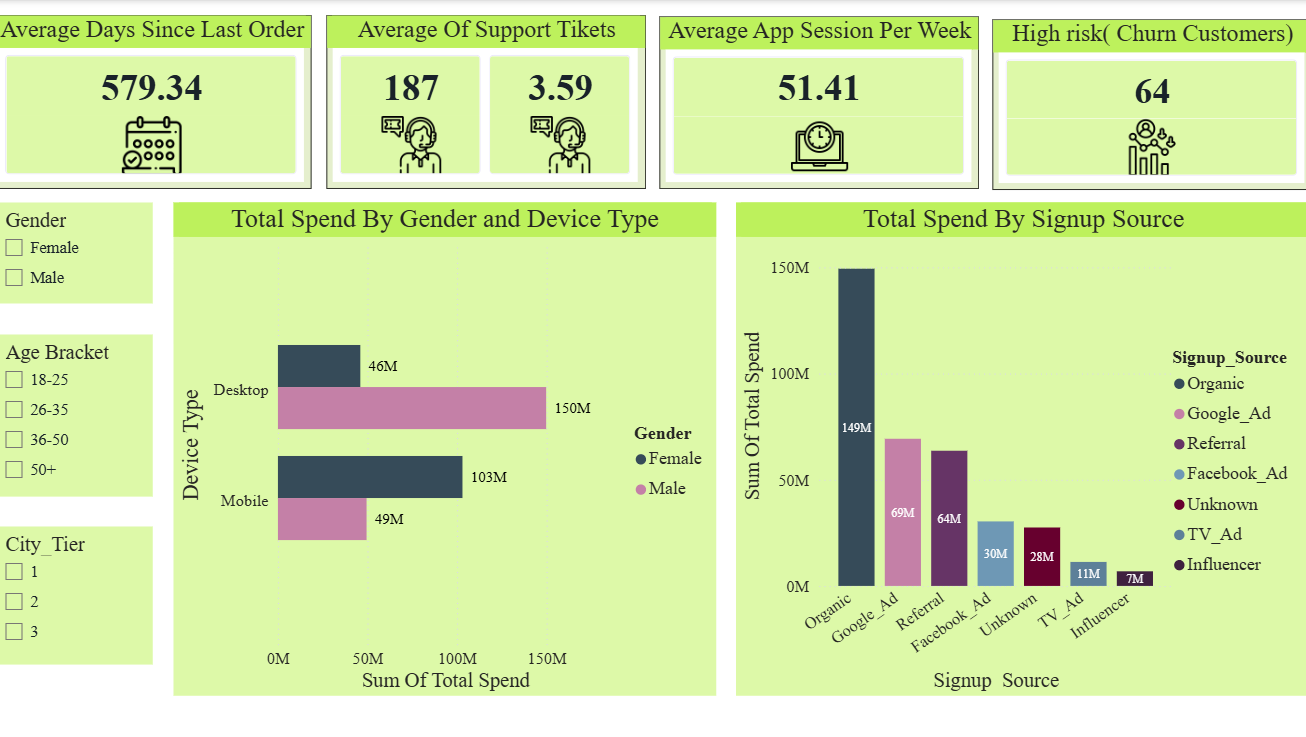

The dashboard page shown, as its layout file describes it:
{"tool":"powerbi","page":{"name":"Page 3","canvas":[1280,720],"ordinal":2},"visuals":[{"type":"cardVisual","title":"Average Days Since Last Order","fields":{"Data":["Avg(shopsmart_customers cleaned.Days_Since_Last_Order)"]},"box":[0,14.9,309.8,169],"z":0},{"type":"cardVisual","title":"Average Of Support Tikets","fields":{"Data":["Max(shopsmart_customers cleaned.Support_Tickets)","Avg(shopsmart_customers cleaned.Support_Tickets)1"]},"box":[324.7,14.9,309.8,169],"z":1000},{"type":"cardVisual","title":"Average App Session Per Week","fields":{"Data":["Avg(shopsmart_customers cleaned.App_Sessions_Per_Week)"]},"box":[647.7,16.6,309.8,167.3],"z":2000},{"type":"cardVisual","title":"High risk( Churn Customers)","fields":{"Data":["shopsmart_customers cleaned.High_Risk"]},"box":[970.7,18.2,309.8,165.6],"z":3000},{"type":"clusteredBarChart","title":"Total Spend By Gender and Device Type","fields":{"Category":["shopsmart_customers cleaned.Device_Type"],"Y":["Sum(shopsmart_customers cleaned.Total_Spend)"],"Series":["shopsmart_customers cleaned.Gender"]},"box":[175.6,197.1,526.8,478.7],"z":4000},{"type":"columnChart","title":"Total Spend By Signup Source","fields":{"Category":["shopsmart_customers cleaned.Signup_Source"],"Y":["Sum(shopsmart_customers cleaned.Total_Spend)"],"Series":["shopsmart_customers cleaned.Signup_Source"]},"box":[722.2,197.1,558.2,478.7],"z":5000},{"type":"slicer","fields":{"Values":["shopsmart_customers cleaned.Gender"]},"box":[0,197.1,155.7,97.7],"z":6000},{"type":"slicer","fields":{"Values":["shopsmart_customers cleaned.age_bracket"]},"box":[0,324.7,155.7,157.4],"z":7000},{"type":"slicer","fields":{"Values":["shopsmart_customers cleaned.City_Tier"]},"box":[0,510.2,155.7,134.2],"z":8000}]}

Visuals, with their boxes in screenshot pixels (x1, y1, x2, y2), scaled from the page's 1280x720 canvas onto the 1306x737 screenshot:
"Average Days Since Last Order" cardVisual: left=0, top=15, right=316, bottom=188
"Average Of Support Tikets" cardVisual: left=331, top=15, right=647, bottom=188
"Average App Session Per Week" cardVisual: left=661, top=17, right=977, bottom=188
"High risk( Churn Customers)" cardVisual: left=990, top=19, right=1305, bottom=188
"Total Spend By Gender and Device Type" clusteredBarChart: left=179, top=202, right=717, bottom=692
"Total Spend By Signup Source" columnChart: left=737, top=202, right=1305, bottom=692
slicer - shopsmart_customers cleaned.Gender: left=0, top=202, right=159, bottom=302
slicer - shopsmart_customers cleaned.age_bracket: left=0, top=332, right=159, bottom=493
slicer - shopsmart_customers cleaned.City_Tier: left=0, top=522, right=159, bottom=660
